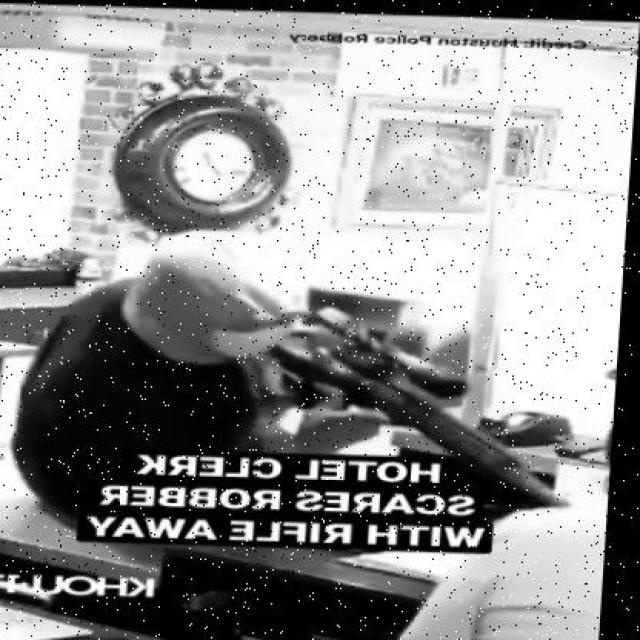weapon: (233, 307, 575, 524)
